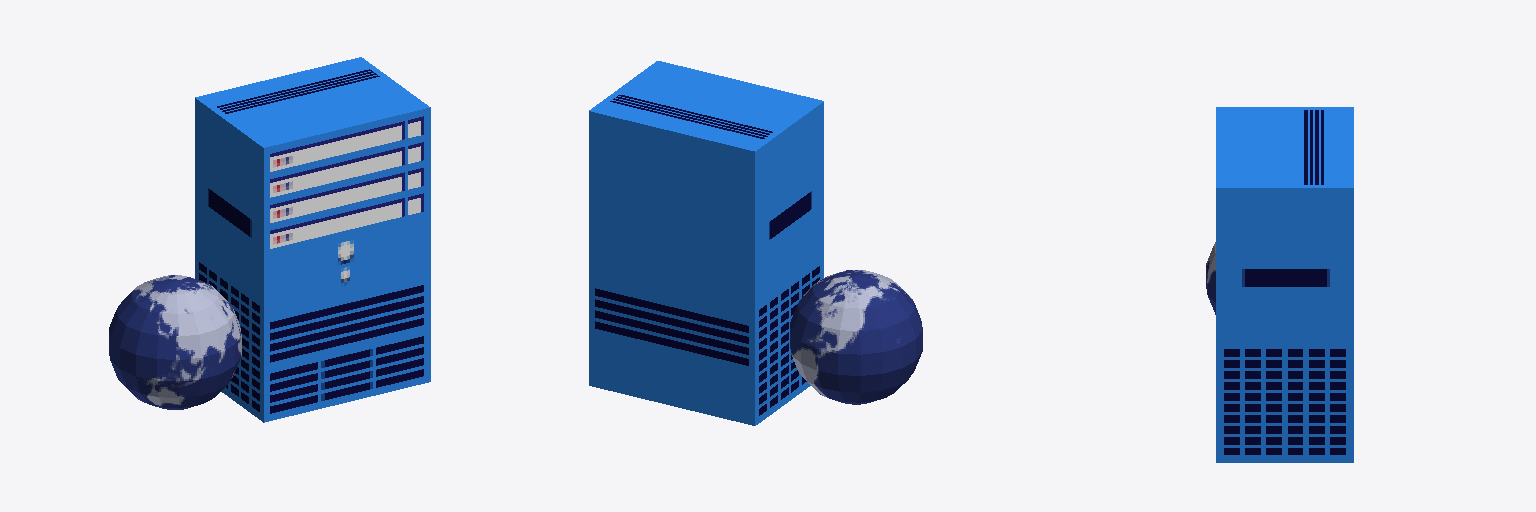
3 views of the same model, side by side, from view 1: azimuth 30°, elevation 25°; view 2: azimuth 150°, elevation 25°; view 3: azimuth 270°, elevation 25° (orthographic).
Parts seen in each view (by area): view 1: 球体.1; view 2: 球体.1; view 3: 球体.1.
Part boxes in pixels (left/top/right/bottom): 球体.1: left=109, top=57, right=430, bottom=422; 球体.1: left=589, top=61, right=922, bottom=425; 球体.1: left=1206, top=107, right=1353, bottom=462.
Size of the model in its own units: 75.13 by 69.22 by 33.8.
5 materials, 4 textured.